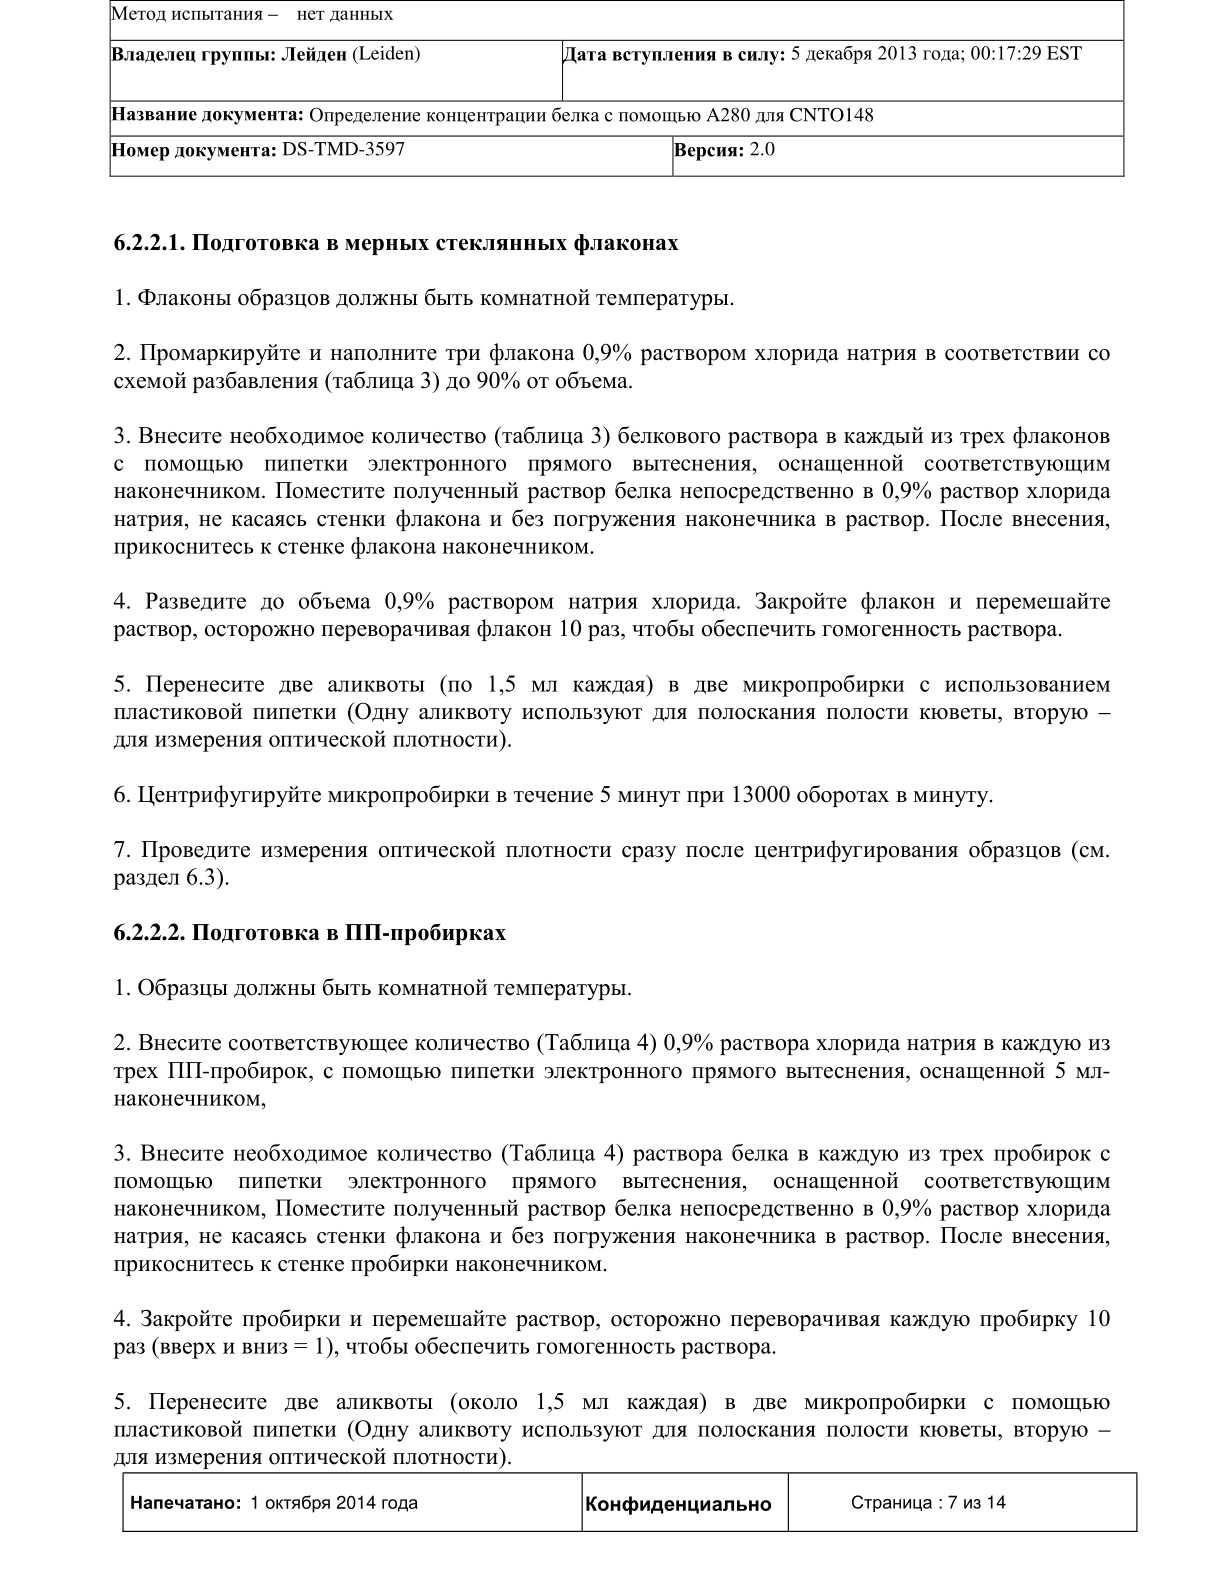full_lined: (121, 1471, 1138, 1533)
merged_cells: (108, 1, 1125, 177)
